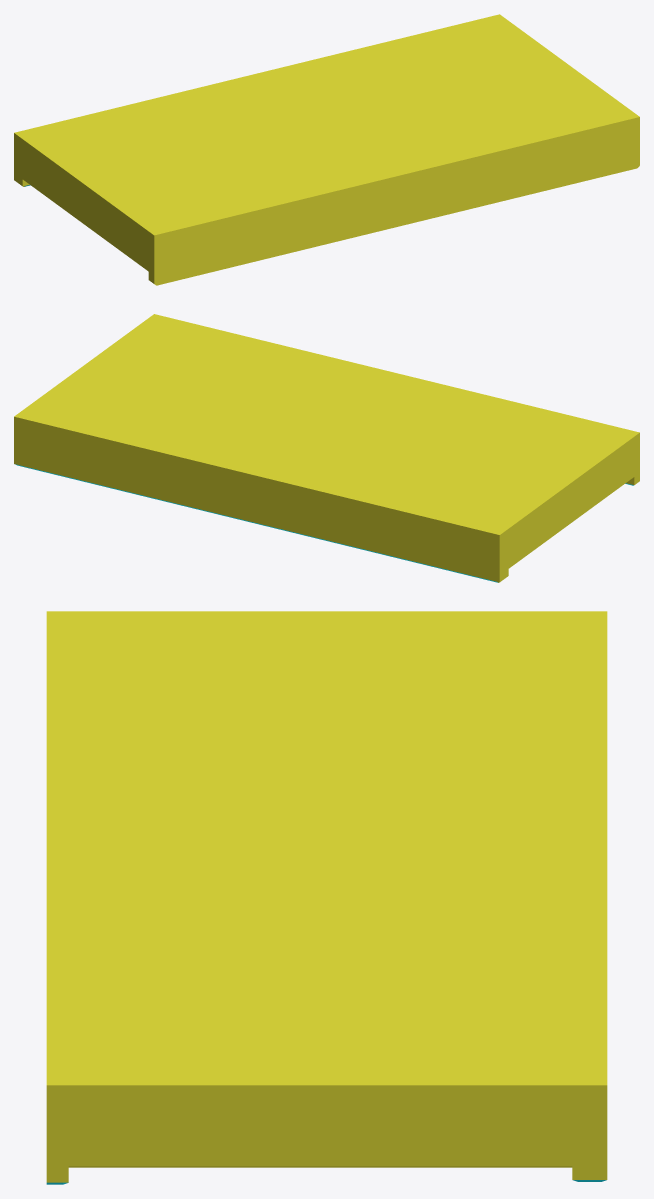
File: Large Building.fbx
The picture shows the model from 3 angles, top to bottom: view 1: azimuth 30°, elevation 25°; view 2: azimuth 150°, elevation 25°; view 3: azimuth 270°, elevation 25°; orthographic projection. The views are drawn at different scales.
Parts seen in each view (by area): view 1: Cube; view 2: Cube; view 3: Cube.
Boxes of the visible parts, box(x1,y1,x2,y2) form: Cube: box(14, 14, 639, 285); Cube: box(14, 314, 639, 582); Cube: box(46, 611, 607, 1184).
Bounding box in the file's own units: 1000 × 100 × 500.
